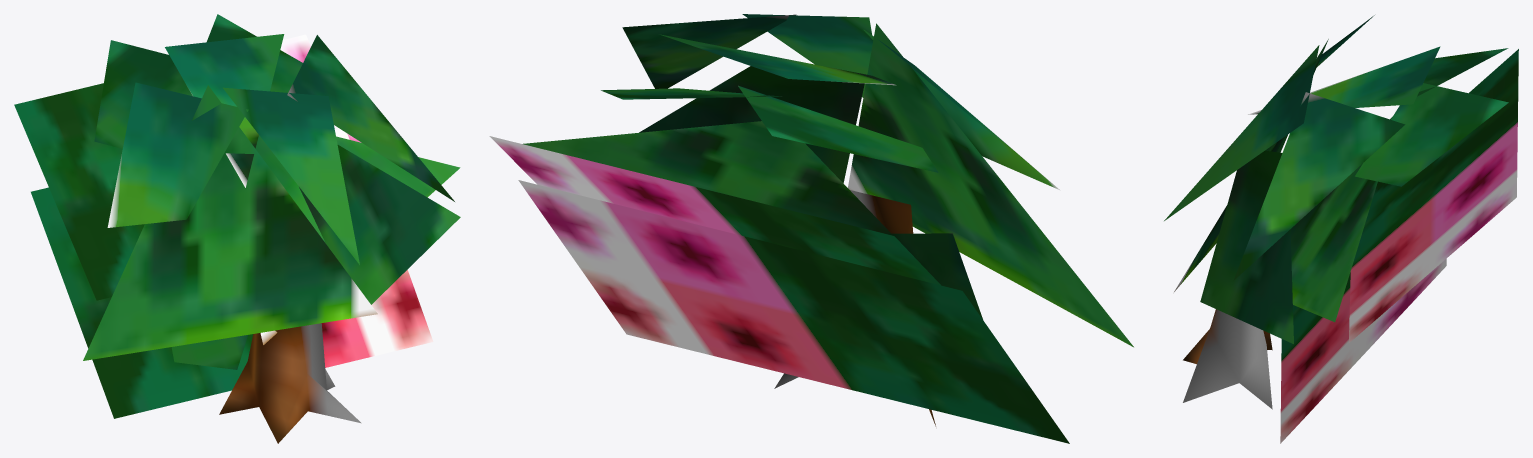
Rendered from fg_bushA_1.dae.
The picture shows the model from 3 angles, left to right: view 1: azimuth 30°, elevation 25°; view 2: azimuth 150°, elevation 25°; view 3: azimuth 270°, elevation 25°; orthographic projection. The views are drawn at different scales.
Parts seen in each view (by area): view 1: fg_bushA_1; view 2: fg_bushA_1; view 3: fg_bushA_1.
Part boxes in pixels (x1,y1,x2,y2): fg_bushA_1: (14, 14, 460, 443); fg_bushA_1: (489, 14, 1133, 443); fg_bushA_1: (1164, 15, 1518, 443).
Size of the model in its own units: 35.43 by 25.39 by 25.39.
1 material, 1 textured.
